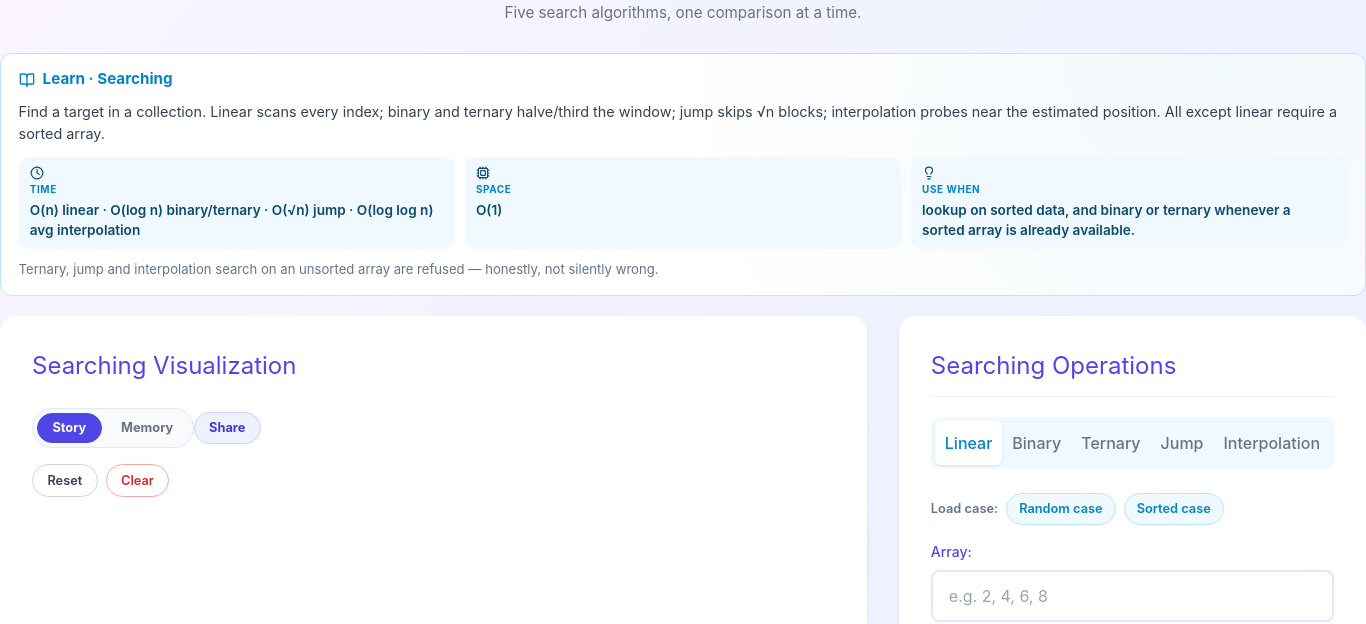
Scenario: search runs › binary search refuses an unsorted array with a guided error
Click the button "Binary": (1037, 442) [1002,420,1071,464]
(page scrolled)
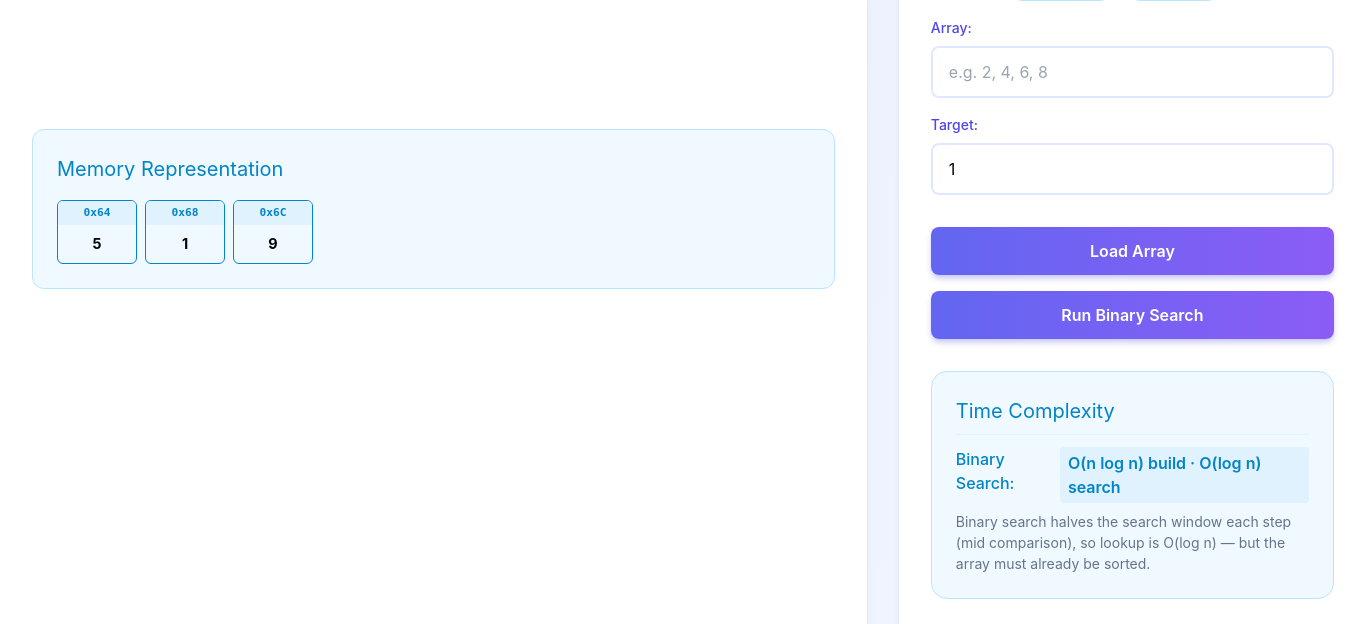
Click the button "Run Binary Search": (1132, 315) [931,291,1334,339]
(page scrolled)
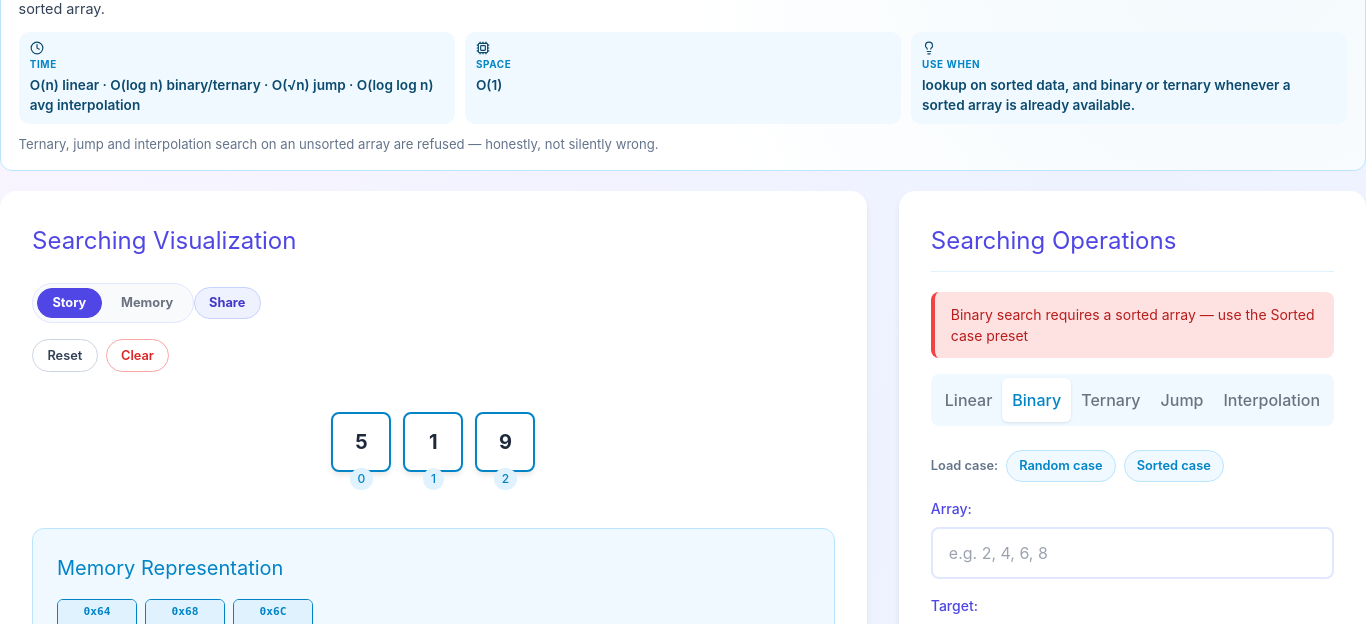
Check: the text "Binary search requires a sorted array — use the Sorted case preset" is shown, box [931,292,1334,358]
